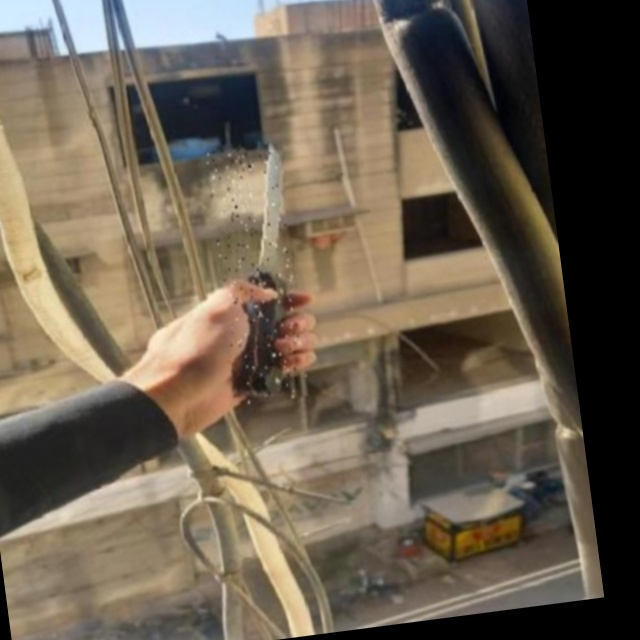Sharp-Object: (205, 140, 309, 404)
